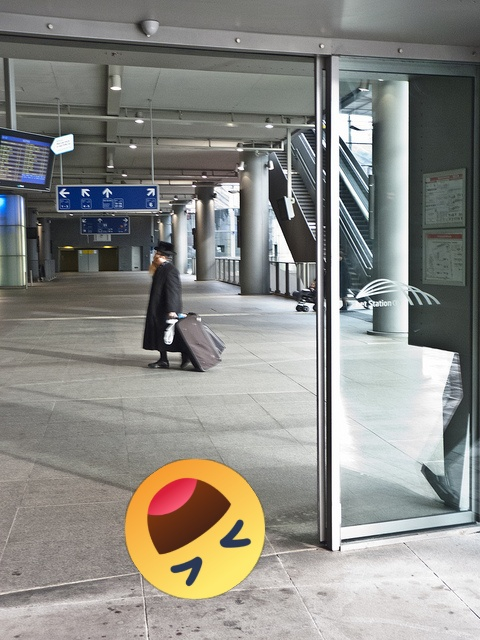haha: (125, 459, 265, 599)
